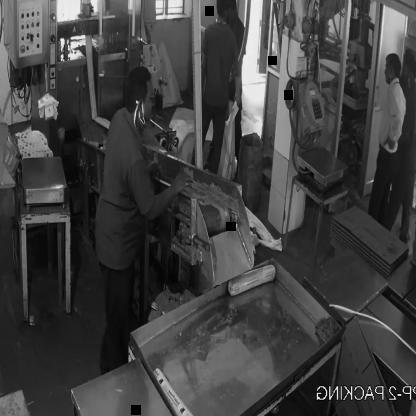no_glove: (140, 165, 198, 224)
